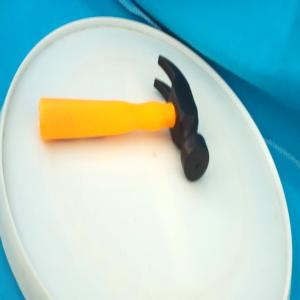martelo: (38, 53, 210, 183)
